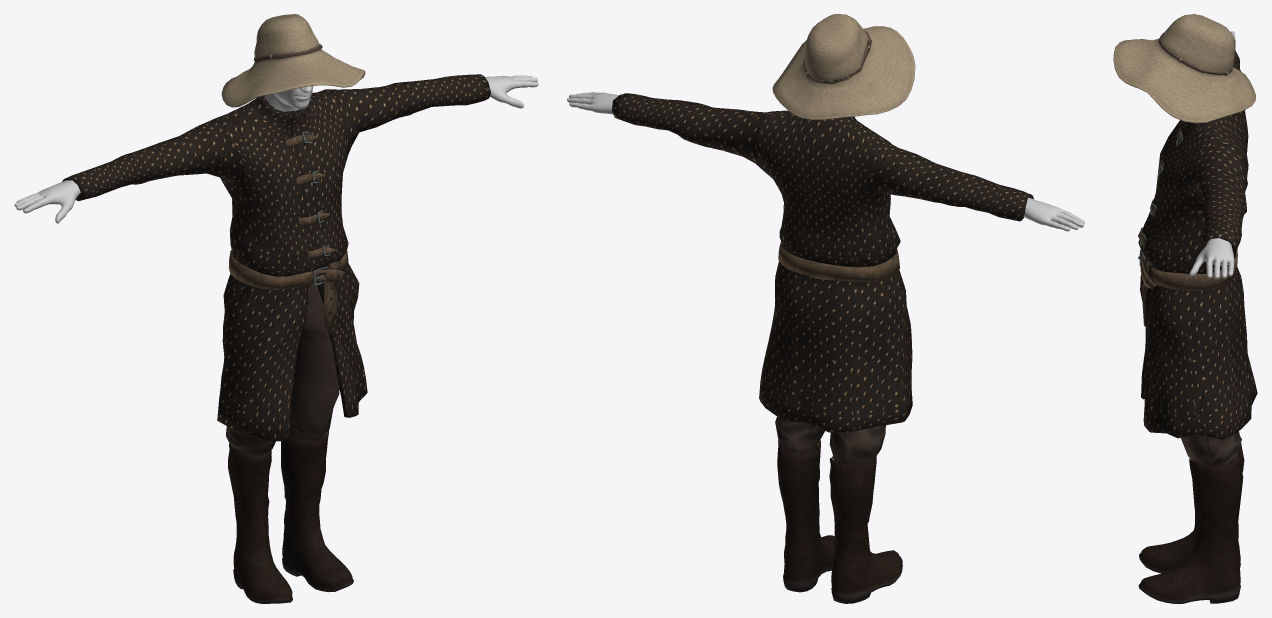
Rendered from EnemyArcher.obj.
The picture shows the model from 3 angles, left to right: view 1: azimuth 30°, elevation 25°; view 2: azimuth 150°, elevation 25°; view 3: azimuth 270°, elevation 25°; orthographic projection.
Visible parts, largest first — view 1: Tops, Shoes, Hats, Bottoms, Body; view 2: Tops, Shoes, Hats, Bottoms, Body; view 3: Tops, Hats, Shoes, Bottoms, Body.
Part boxes in pixels (box(x1,y1,x2,y2)): Tops: box(62, 74, 490, 441); Shoes: box(228, 430, 353, 603); Hats: box(221, 14, 365, 107); Bottoms: box(226, 283, 339, 454); Body: box(14, 75, 538, 223); Tops: box(612, 93, 1033, 432); Shoes: box(777, 440, 902, 603); Hats: box(772, 14, 915, 119); Bottoms: box(775, 416, 885, 464); Body: box(567, 92, 1084, 231); Tops: box(1138, 50, 1257, 439); Hats: box(1113, 14, 1255, 123); Shoes: box(1138, 431, 1244, 603); Bottoms: box(1155, 268, 1241, 465); Body: box(1189, 28, 1235, 279).
Bounding box in the file's own units: 175 × 183 × 42.13.
